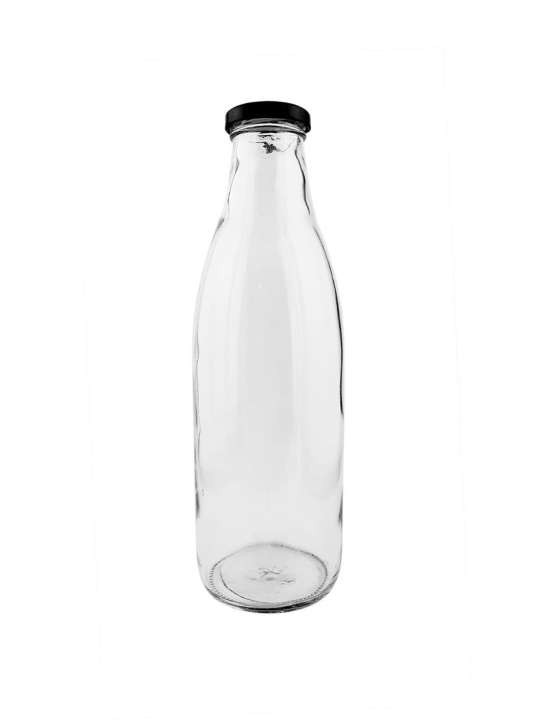glass_bottle: (191, 99, 350, 620)
